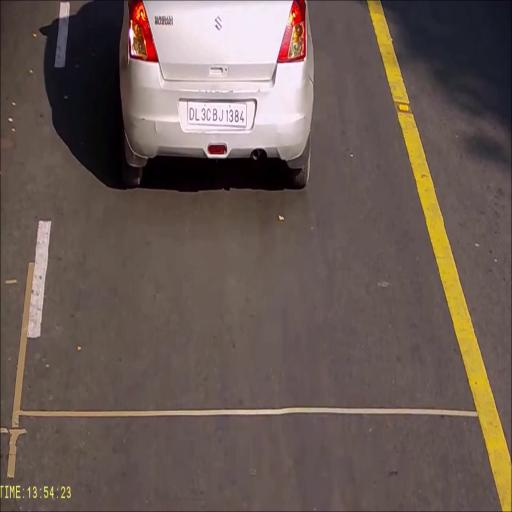License plate: (187, 101, 247, 127)
Vehicle: (119, 0, 314, 189)
